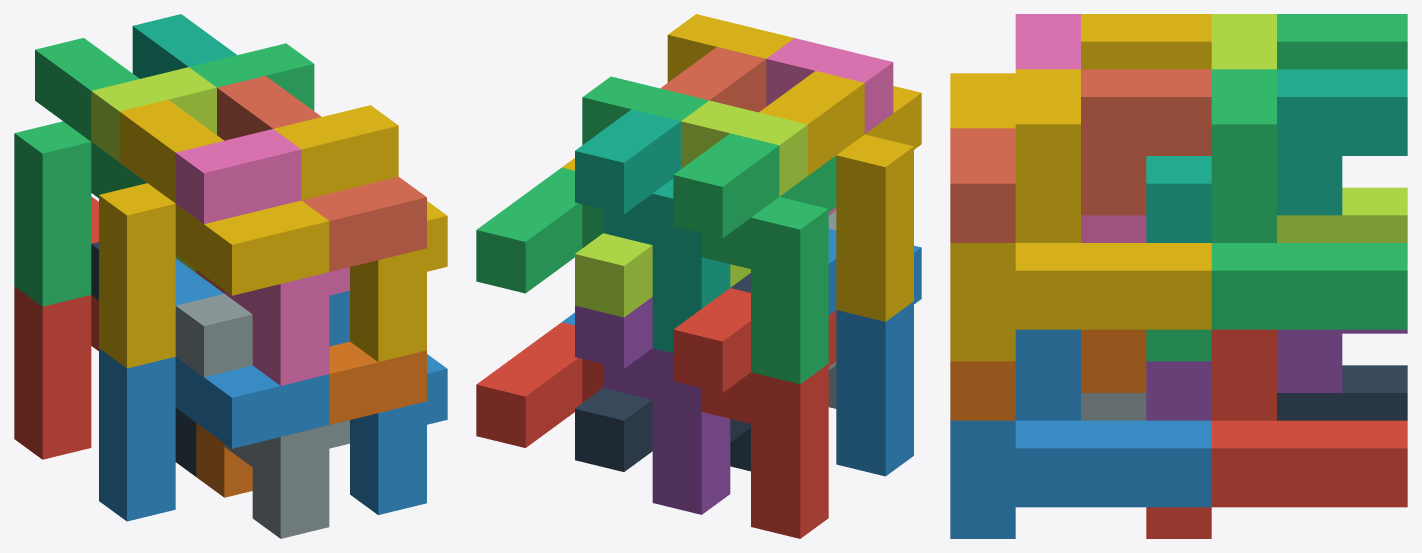
The model's file is tiling.obj.
3 renders of one model, left to right at view 1: azimuth 30°, elevation 25°; view 2: azimuth 150°, elevation 25°; view 3: azimuth 270°, elevation 25°, orthographic. The views are drawn at different scales.
Parts seen in each view (by area): view 1: copy_1_domain_4, copy_1_domain_2, copy_1_domain_3, copy_2_domain_4, copy_2_domain_8, copy_2_domain_2, copy_1_domain_1, copy_1_domain_8, copy_2_domain_6, copy_1_domain_6, copy_2_domain_3, copy_1_domain_7 (+2 smaller); view 2: copy_1_domain_3, copy_1_domain_4, copy_1_domain_1, copy_1_domain_7, copy_1_domain_5, copy_2_domain_7, copy_1_domain_2, copy_2_domain_3, copy_2_domain_5, copy_2_domain_1, copy_2_domain_4, copy_1_domain_8 (+2 smaller); view 3: copy_2_domain_8, copy_2_domain_6, copy_2_domain_7, copy_2_domain_5, copy_1_domain_8, copy_1_domain_7, copy_1_domain_4, copy_2_domain_3, copy_1_domain_5, copy_1_domain_6, copy_1_domain_3, copy_2_domain_4 (+2 smaller).
Boxes of the visible parts, x1,y1,x2,y2 form: copy_1_domain_4: [99, 99, 329, 368]; copy_1_domain_2: [99, 258, 329, 521]; copy_1_domain_3: [14, 38, 146, 306]; copy_2_domain_4: [175, 129, 349, 385]; copy_2_domain_8: [273, 105, 447, 361]; copy_2_domain_2: [175, 294, 349, 538]; copy_1_domain_1: [14, 196, 98, 459]; copy_1_domain_8: [196, 76, 426, 293]; copy_2_domain_6: [329, 290, 447, 514]; copy_1_domain_6: [196, 341, 426, 497]; copy_2_domain_3: [91, 67, 216, 272]; copy_1_domain_7: [132, 14, 236, 78]; copy_1_domain_3: [673, 133, 836, 384]; copy_1_domain_4: [759, 71, 921, 321]; copy_1_domain_1: [673, 288, 836, 538]; copy_1_domain_7: [575, 109, 730, 353]; copy_1_domain_5: [575, 297, 730, 514]; copy_2_domain_7: [476, 76, 708, 293]; copy_1_domain_2: [828, 229, 921, 476]; copy_2_domain_3: [575, 100, 807, 317]; copy_2_domain_5: [476, 322, 603, 447]; copy_2_domain_1: [575, 273, 750, 471]; copy_2_domain_4: [766, 38, 893, 215]; copy_1_domain_8: [660, 47, 766, 112]; copy_2_domain_8: [950, 69, 1211, 361]; copy_2_domain_6: [950, 329, 1211, 538]; copy_2_domain_7: [1146, 69, 1407, 361]; copy_2_domain_5: [1146, 329, 1407, 538]; copy_1_domain_8: [950, 69, 1211, 242]; copy_1_domain_7: [1146, 69, 1407, 242]; copy_1_domain_4: [950, 14, 1211, 128]; copy_2_domain_3: [1211, 14, 1407, 242]; copy_1_domain_5: [1146, 329, 1407, 420]; copy_1_domain_6: [950, 329, 1146, 420]; copy_1_domain_3: [1277, 14, 1407, 69]; copy_2_domain_4: [1015, 14, 1146, 242].
Size of the model in its own units: 6 by 7 by 7.
